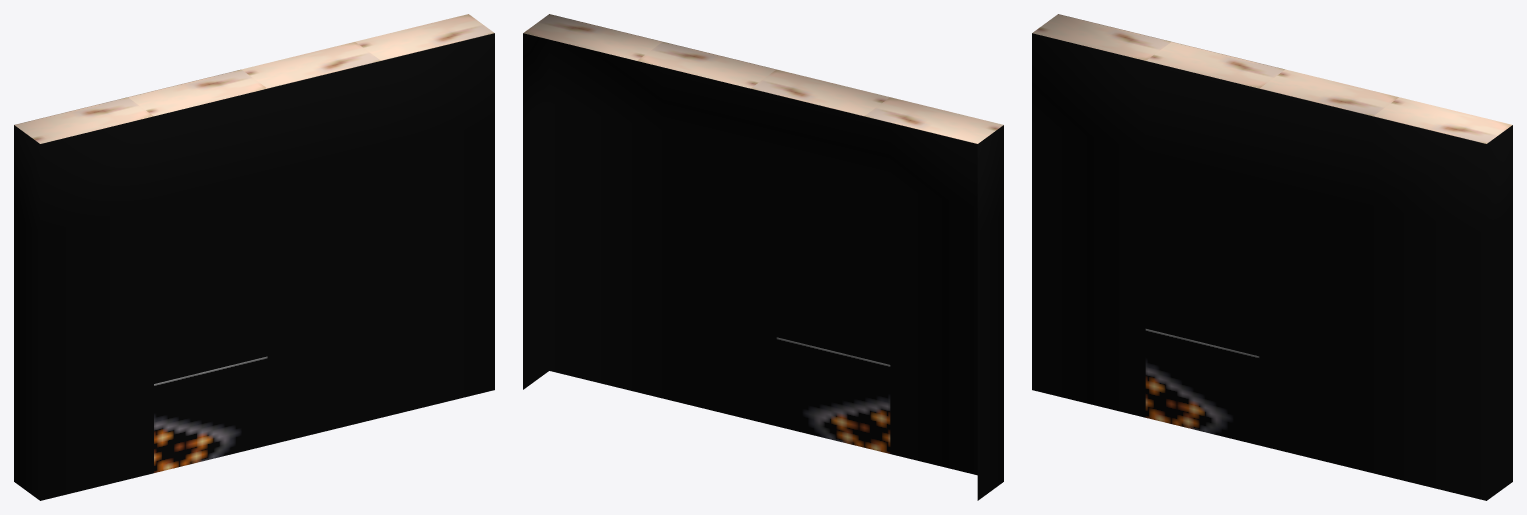
3 renders of one model, left to right at view 1: azimuth 30°, elevation 25°; view 2: azimuth 150°, elevation 25°; view 3: azimuth 330°, elevation 25°, orthographic.
Visible parts, largest first — view 1: T1L6M003_0; view 2: T1L6M003_0; view 3: T1L6M003_0.
Part boxes in pixels (x1=…): T1L6M003_0: x1=14, y1=14, x2=494, y2=500; T1L6M003_0: x1=523, y1=14, x2=1003, y2=500; T1L6M003_0: x1=1032, y1=14, x2=1512, y2=500.
Size of the model in its own units: 4 by 3 by 0.3994.
